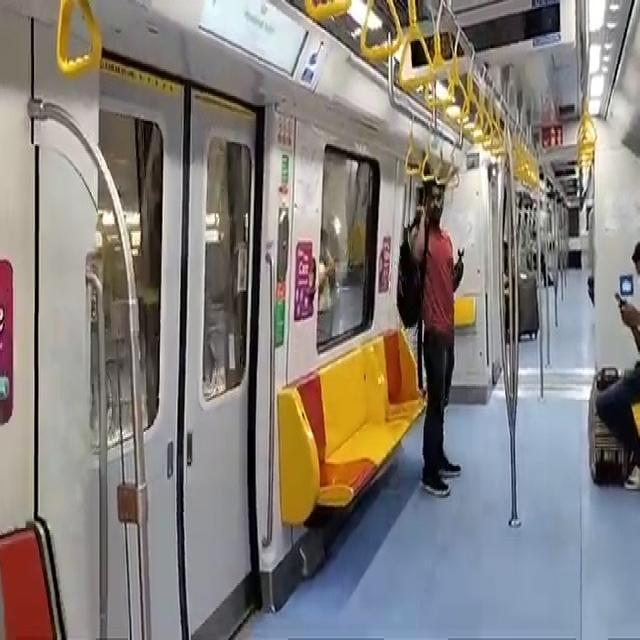bus-door: (100, 60, 256, 638), (96, 182, 140, 637)
